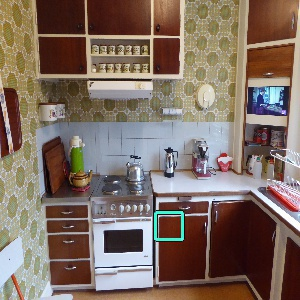square: (152, 209, 186, 243)
